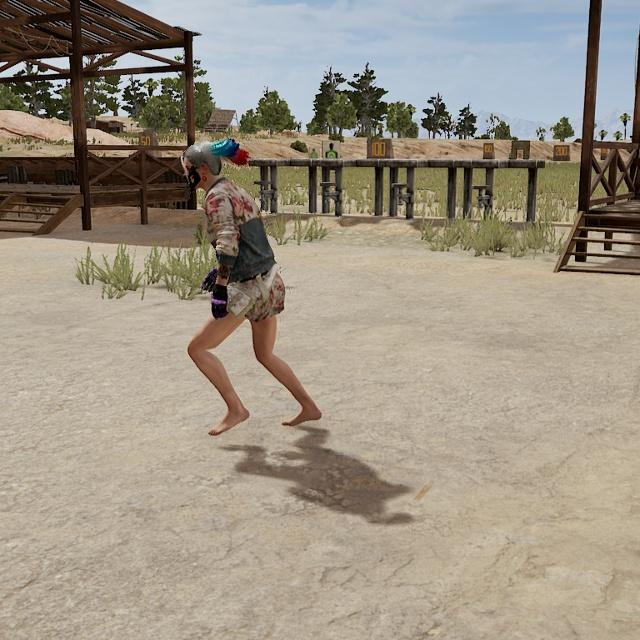head: (180, 141, 227, 191)
people: (179, 140, 323, 436)
